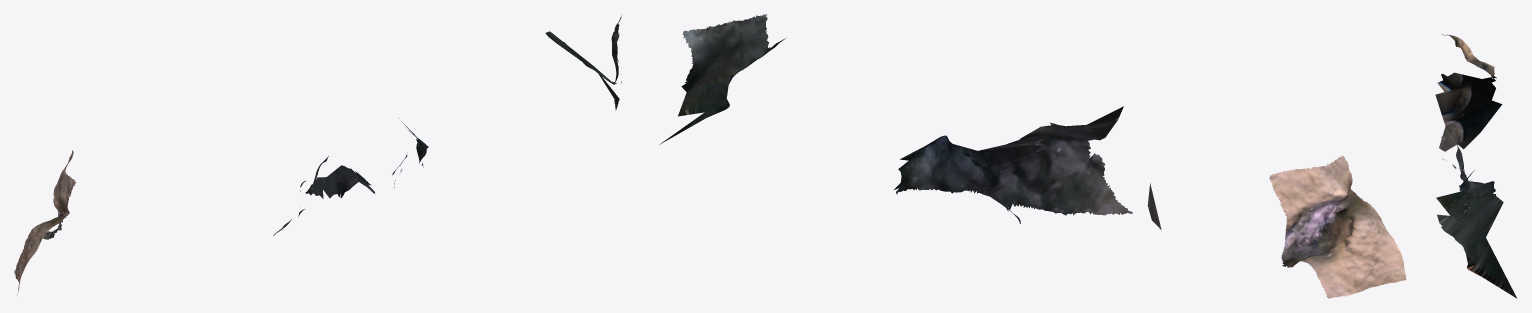
The model's file is tile_0092.gltf.
The picture shows the model from 3 angles, left to right: view 1: azimuth 30°, elevation 25°; view 2: azimuth 150°, elevation 25°; view 3: azimuth 270°, elevation 25°; orthographic projection. The views are drawn at different scales.
Visible parts, largest first — view 1: defaultobject; view 2: defaultobject; view 3: defaultobject.
Part boxes in pixels (left/top/right/bottom): defaultobject: left=14, top=15, right=621, bottom=296; defaultobject: left=659, top=14, right=1406, bottom=298; defaultobject: left=1435, top=34, right=1516, bottom=298.
Bounding box in the file's own units: 2.18 × 0.3868 × 0.326.
2 materials, 2 textured.
